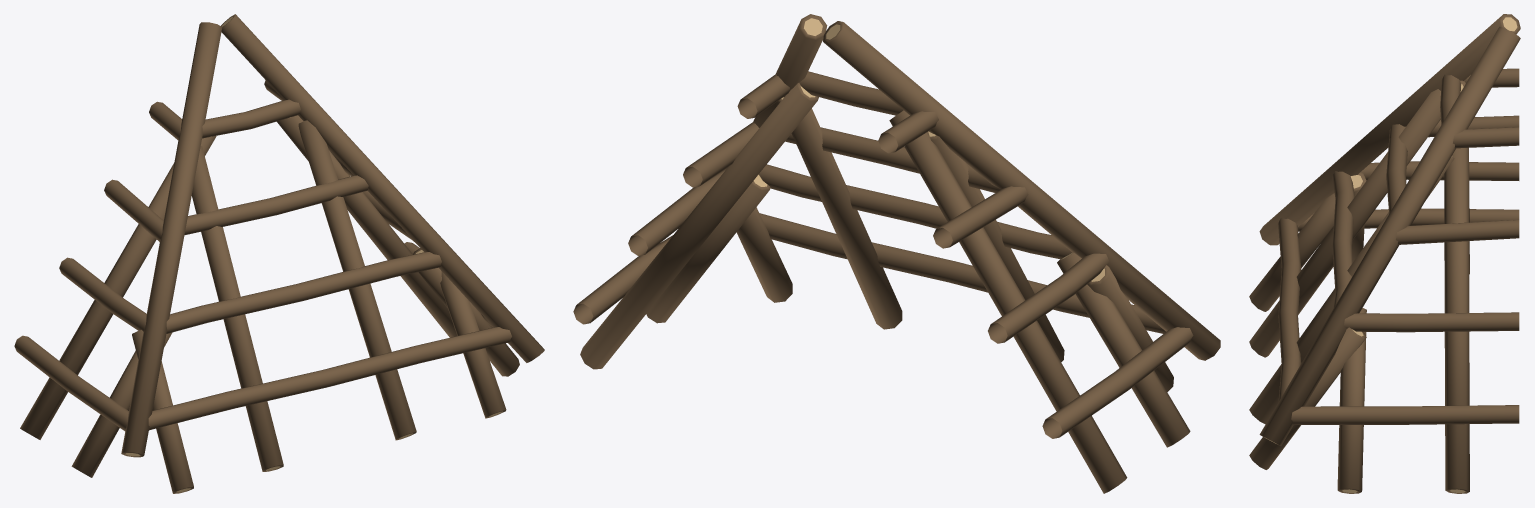
Rendered from rpgpp_ag_roof_support_01_6x5x3_end_02.fbx.
3 views of the same model, side by side, from view 1: azimuth 30°, elevation 25°; view 2: azimuth 150°, elevation 25°; view 3: azimuth 270°, elevation 25° (orthographic). The views are drawn at different scales.
Parts seen in each view (by area): view 1: rpgpp_ag_roof_support_01_6x5x3_end_02; view 2: rpgpp_ag_roof_support_01_6x5x3_end_02; view 3: rpgpp_ag_roof_support_01_6x5x3_end_02.
Part boxes in pixels (x1,y1,x2,y2): rpgpp_ag_roof_support_01_6x5x3_end_02: (14,14,544,493); rpgpp_ag_roof_support_01_6x5x3_end_02: (573,14,1220,493); rpgpp_ag_roof_support_01_6x5x3_end_02: (1249,14,1520,493).
Size of the model in its own units: 6.94 by 5.28 by 3.53.
